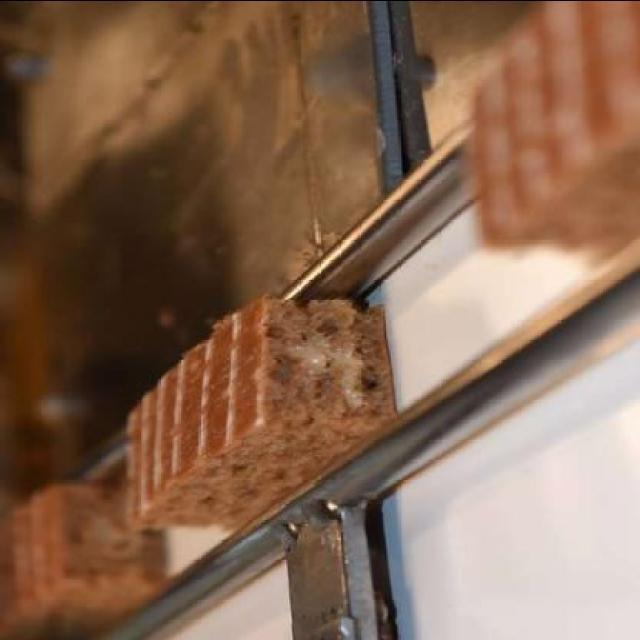Merendine packaged: (120, 294, 400, 534)
